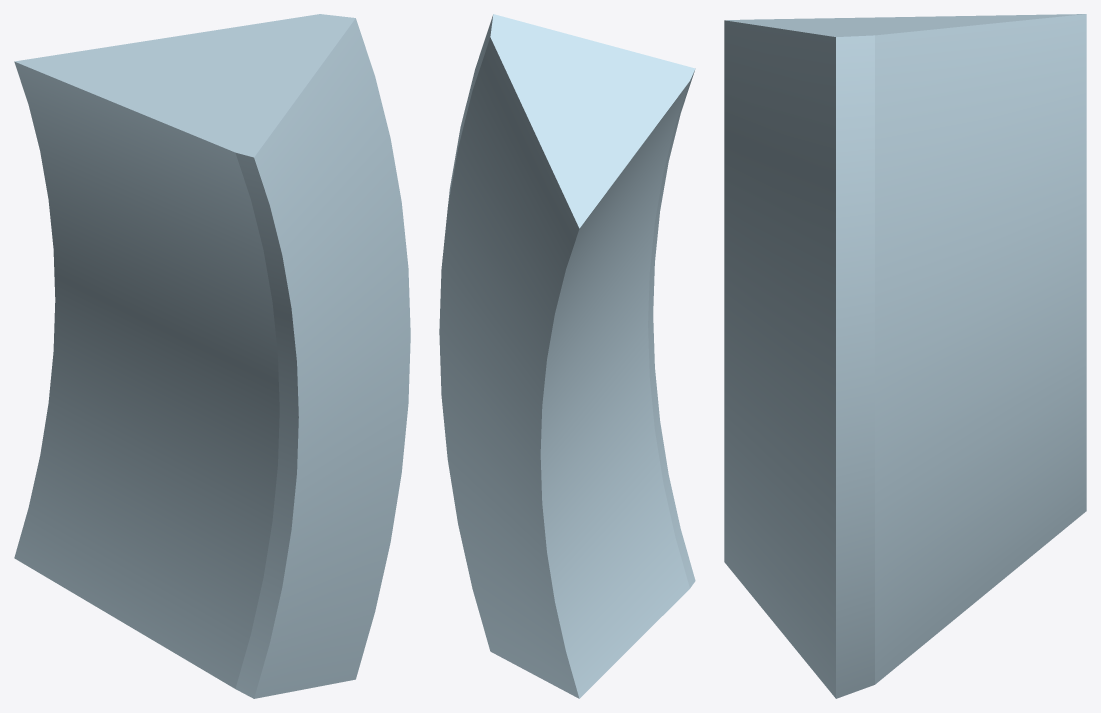
File: Sub_1_Cell_1_2.gltf
The picture shows the model from 3 angles, left to right: view 1: azimuth 30°, elevation 25°; view 2: azimuth 150°, elevation 25°; view 3: azimuth 270°, elevation 25°; orthographic projection. The views are drawn at different scales.
Visible parts, largest first — view 1: Sub_1_Cell_1_2; view 2: Sub_1_Cell_1_2; view 3: Sub_1_Cell_1_2.
Boxes of the visible parts, x1,y1,x2,y2 form: Sub_1_Cell_1_2: (14,14,410,698); Sub_1_Cell_1_2: (439,14,695,698); Sub_1_Cell_1_2: (724,14,1086,698).
Bounding box in the file's own units: 0.0511 × 0.1192 × 0.0592.
